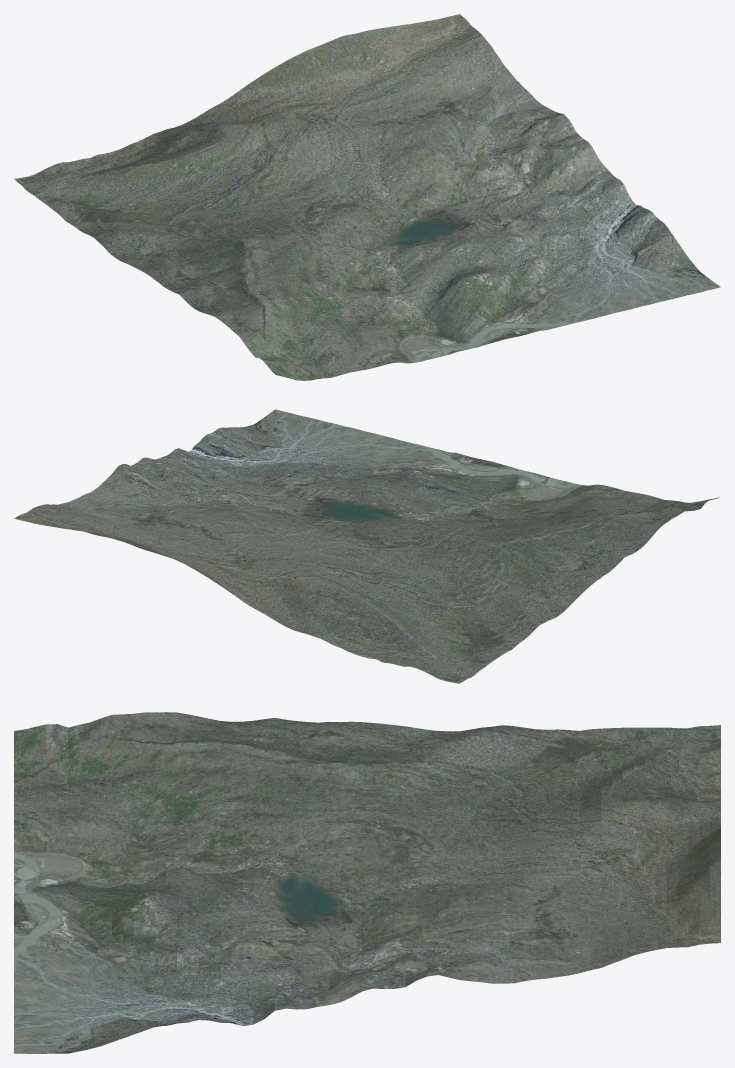
File: Silv_tile_1.gltf
3 renders of one model, top to bottom at view 1: azimuth 30°, elevation 25°; view 2: azimuth 150°, elevation 25°; view 3: azimuth 270°, elevation 25°, orthographic. The views are drawn at different scales.
Visible parts, largest first — view 1: 18.001; view 2: 18.001; view 3: 18.001.
Boxes of the visible parts, left/top/right/bottom form: 18.001: left=14, top=14, right=720, bottom=380; 18.001: left=14, top=409, right=719, bottom=683; 18.001: left=14, top=712, right=720, bottom=1053.
Size of the model in its own units: 0.5 by 0.0992 by 0.5078.
1 material, 1 textured.
